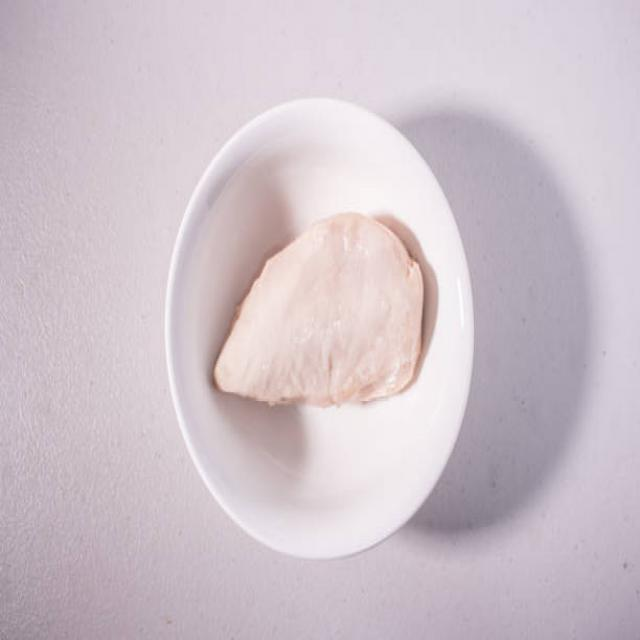Chicken: (220, 190, 426, 470)
